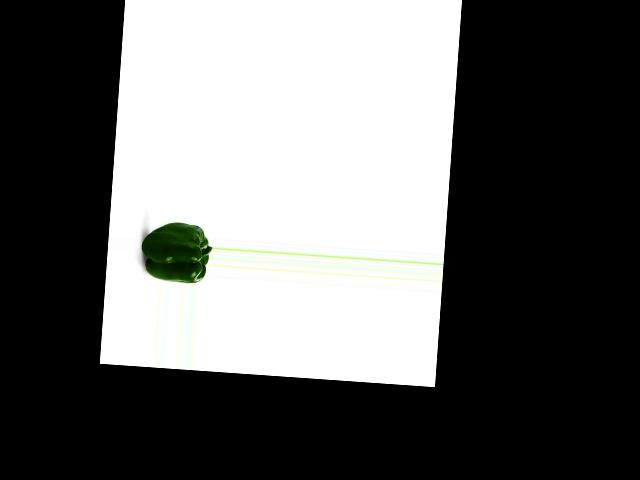bell_pepper: (141, 218, 212, 285)
